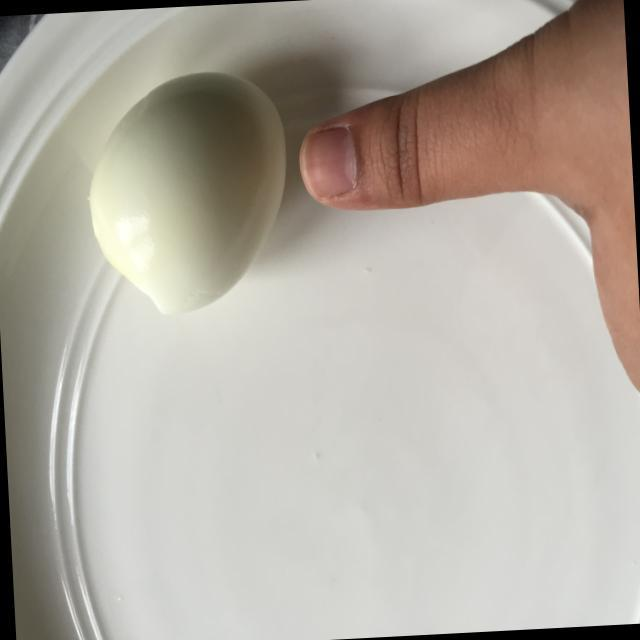Egg: (72, 54, 307, 332)
Finger: (287, 74, 470, 218)
